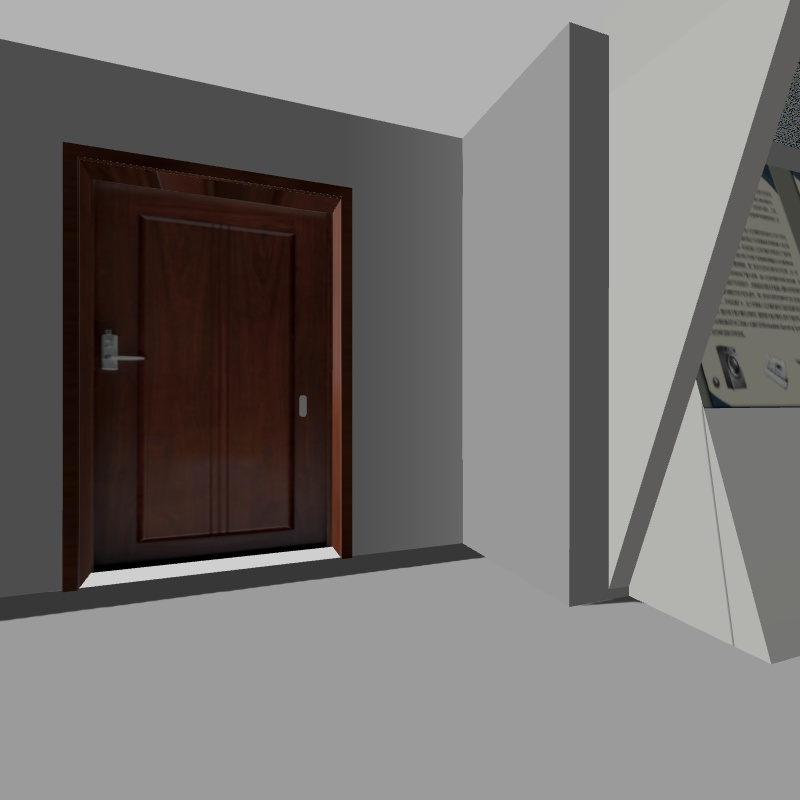handle: (95, 323, 147, 374)
